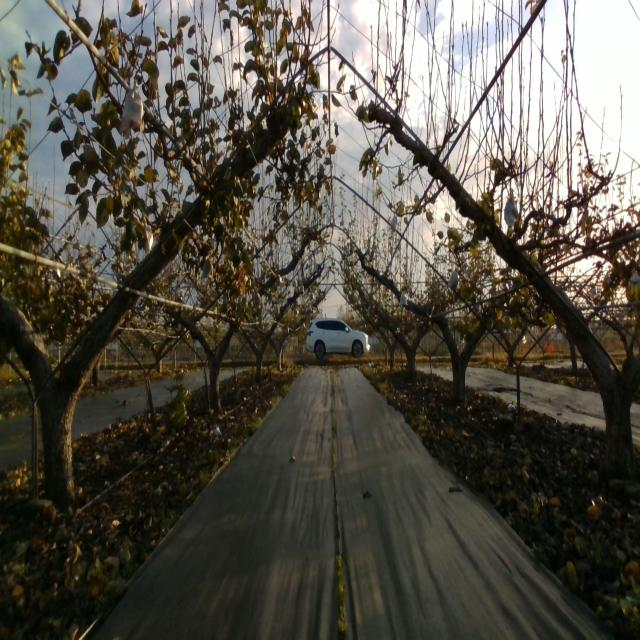pearbags: (118, 80, 144, 134), (140, 214, 154, 255), (504, 188, 518, 228), (448, 268, 460, 292)
